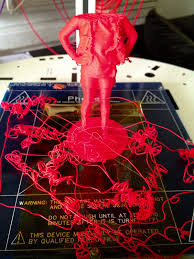fail: (37, 156, 194, 259), (1, 93, 79, 226), (109, 89, 194, 178), (93, 12, 137, 67)
